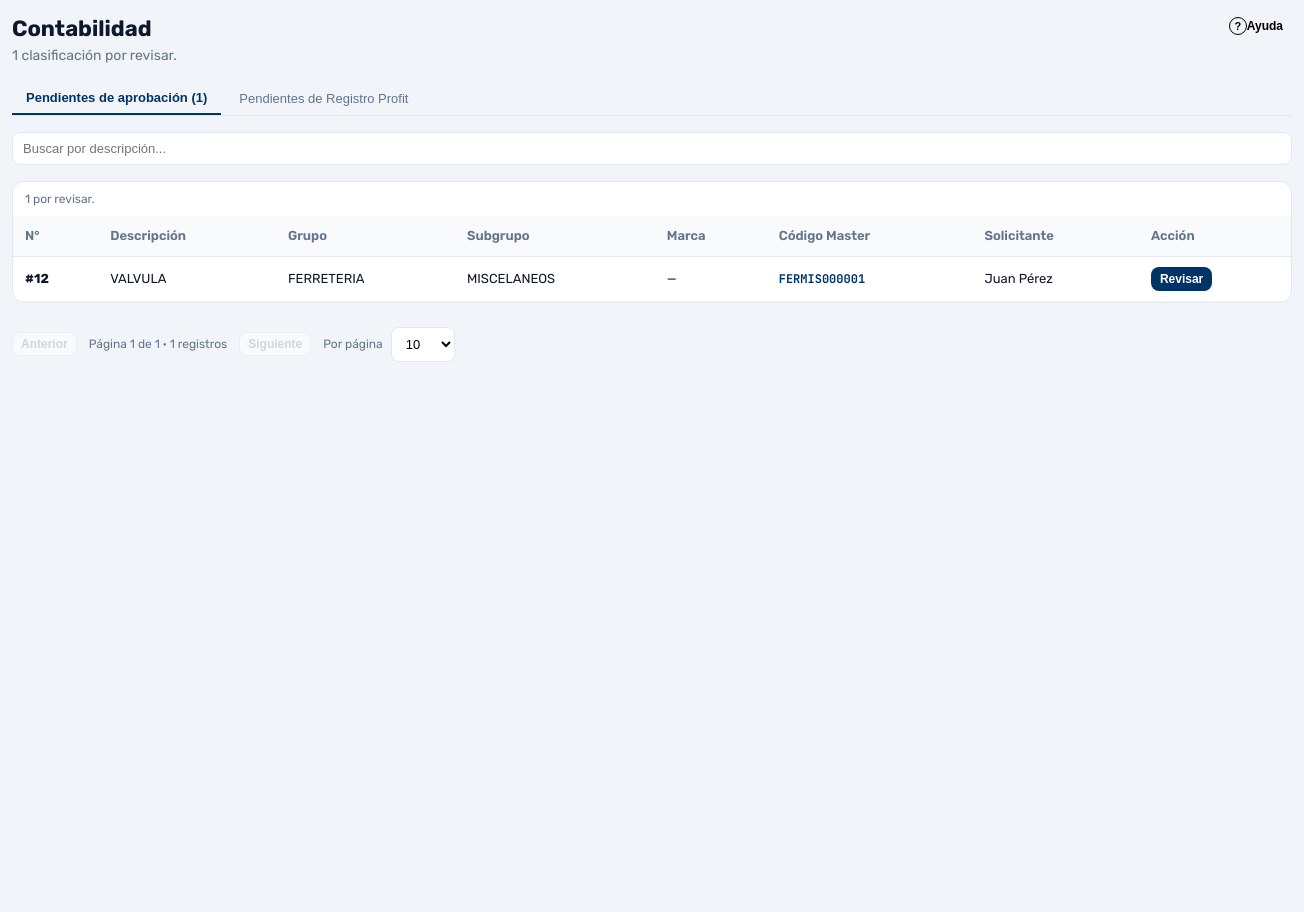
it: ContabilidadList 11C › clasificación visible como read-only (sin selects de grupo)
Click the button "Revisar" at x=1182, y=278, box x1=1151 y1=266 x2=1212 y2=290
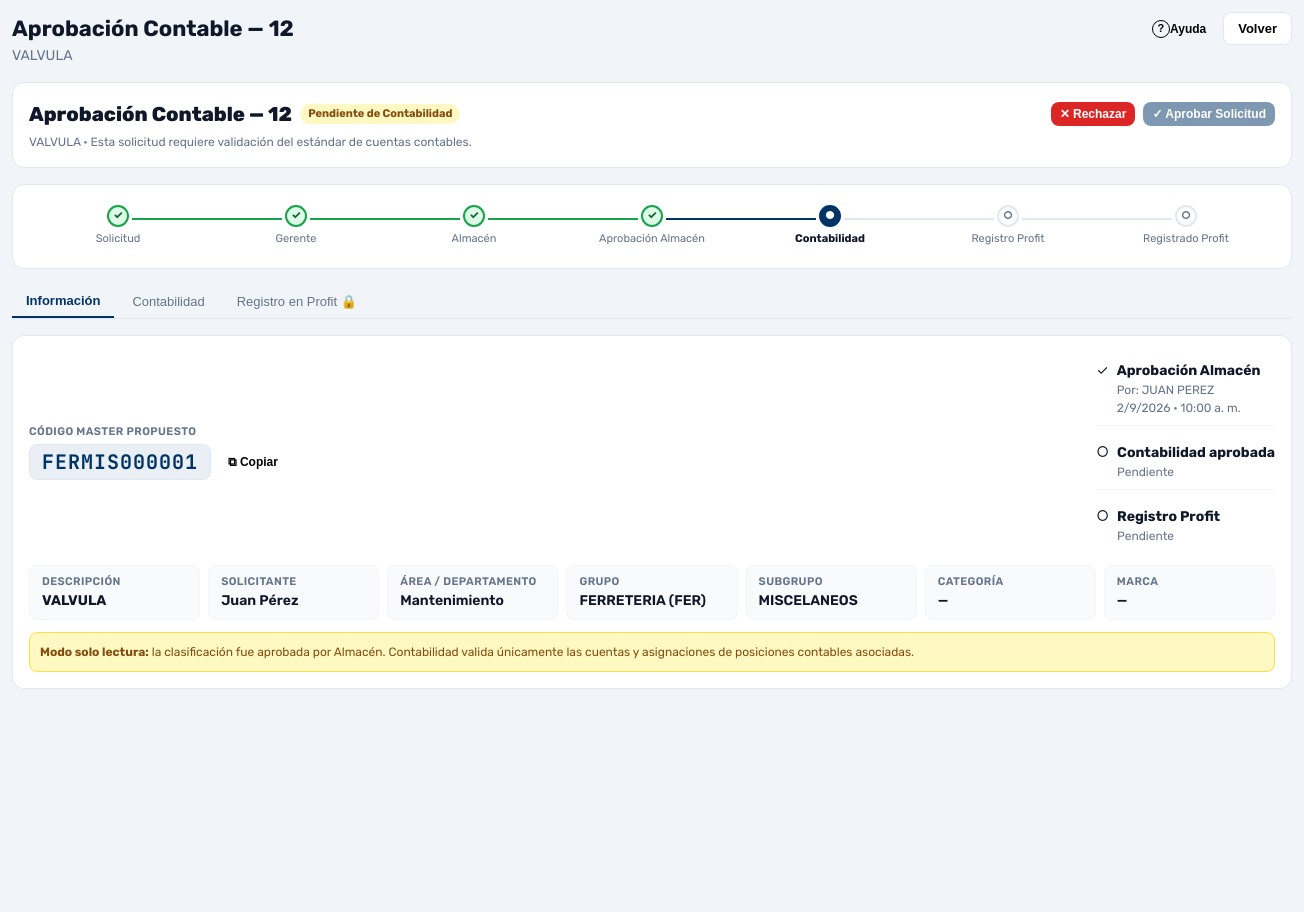
Expected: the text "Modo solo lectura:" is shown, x1=40 y1=645 x2=149 y2=659
Expected: the dropdown is gone
